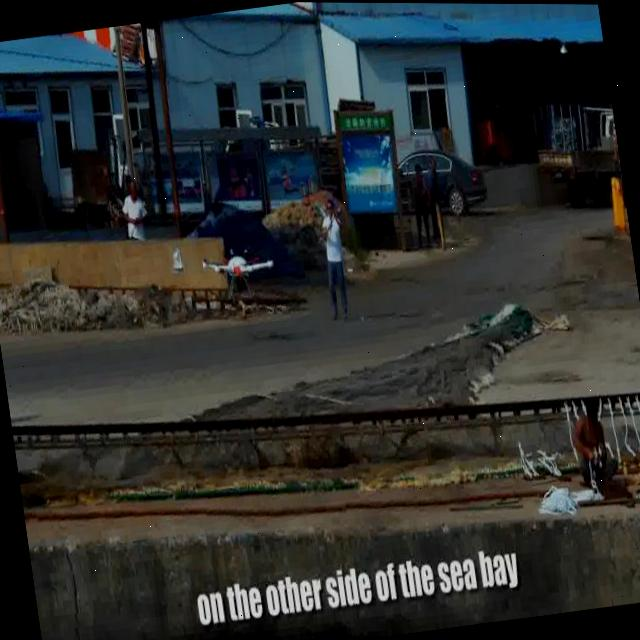drone: (196, 240, 280, 302)
